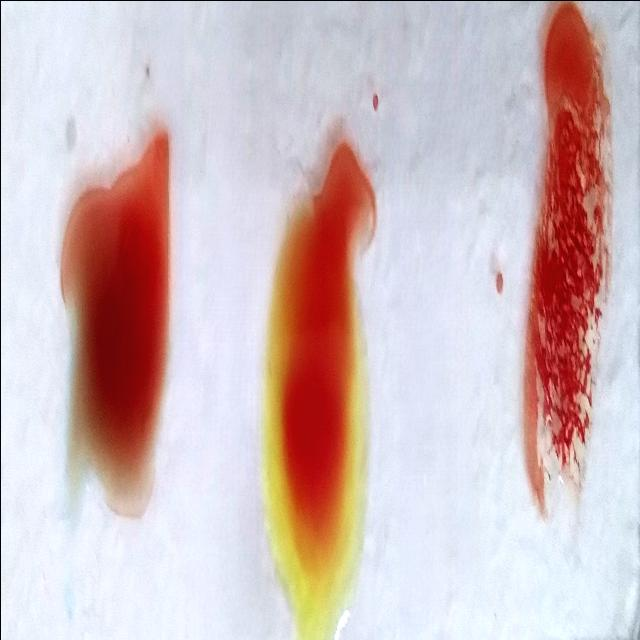D: (523, 8, 615, 494)
